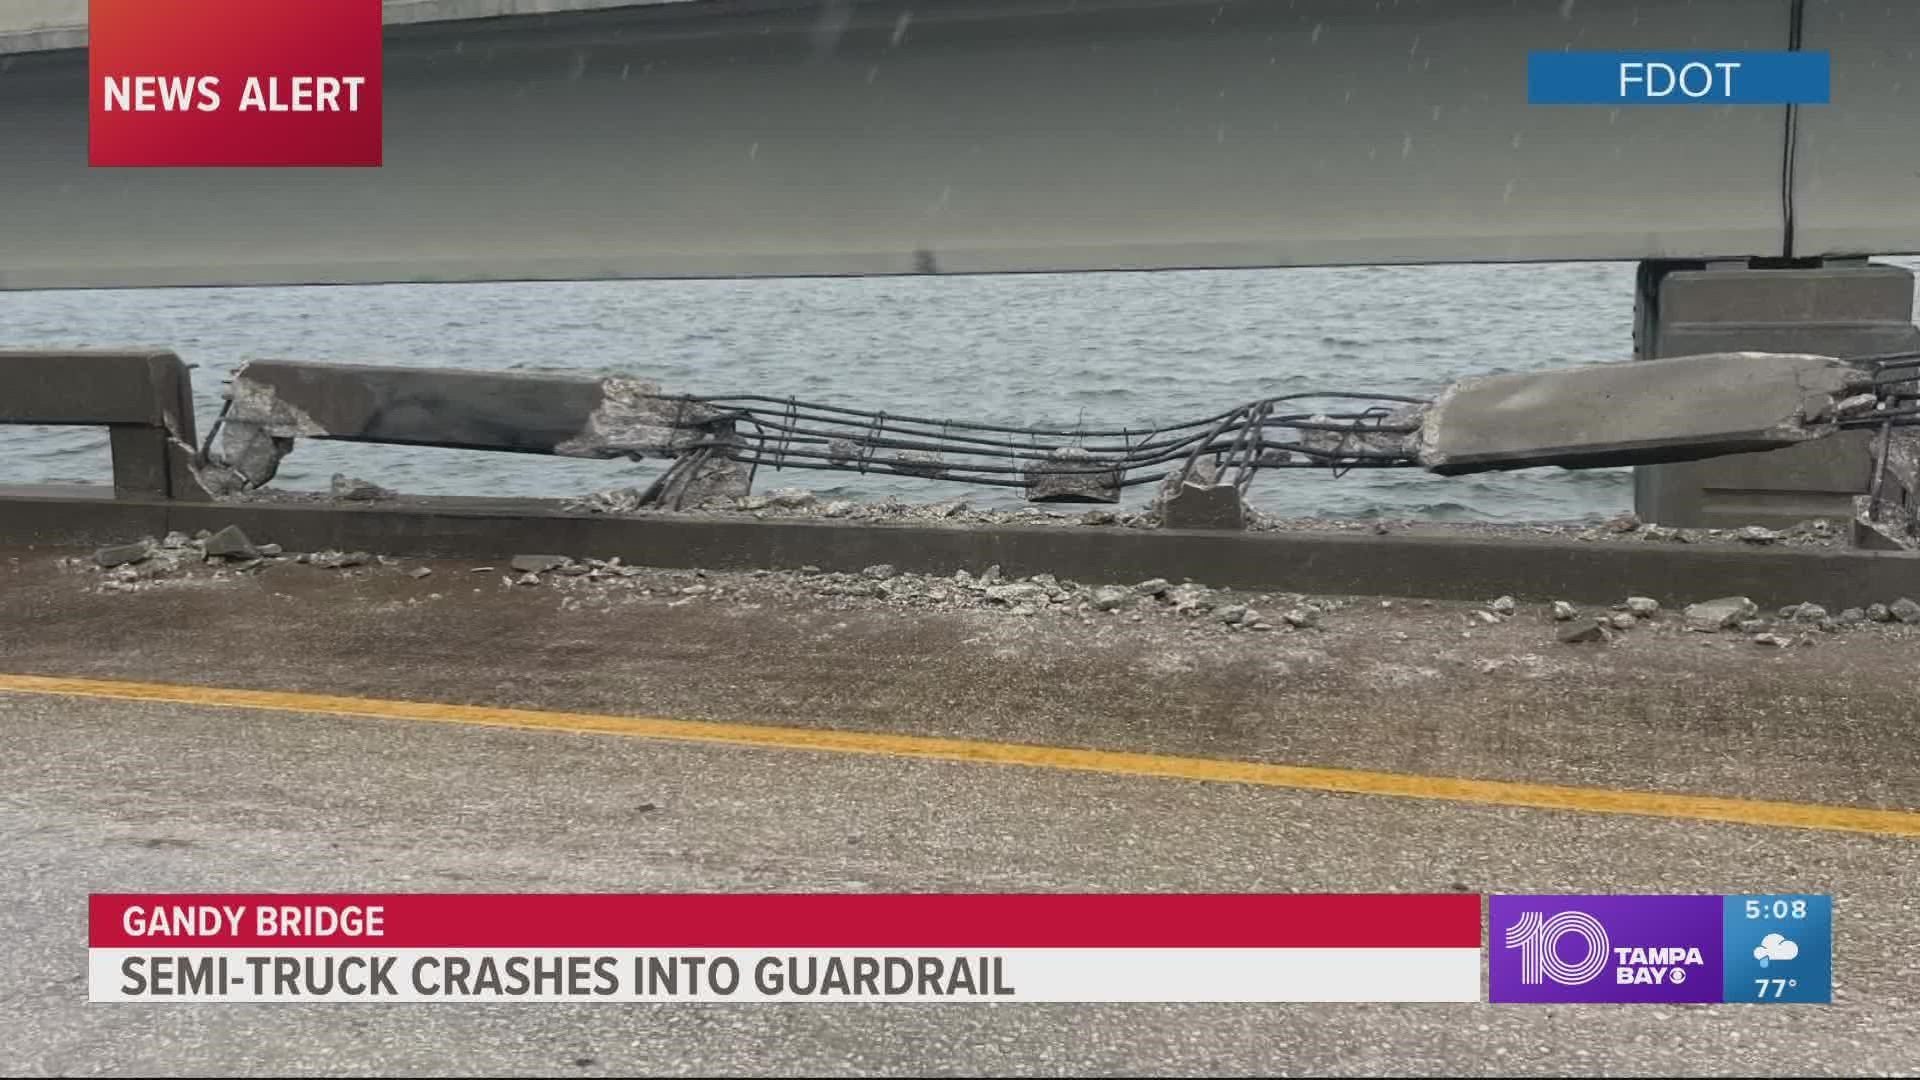damaged: (132, 340, 1493, 500)
